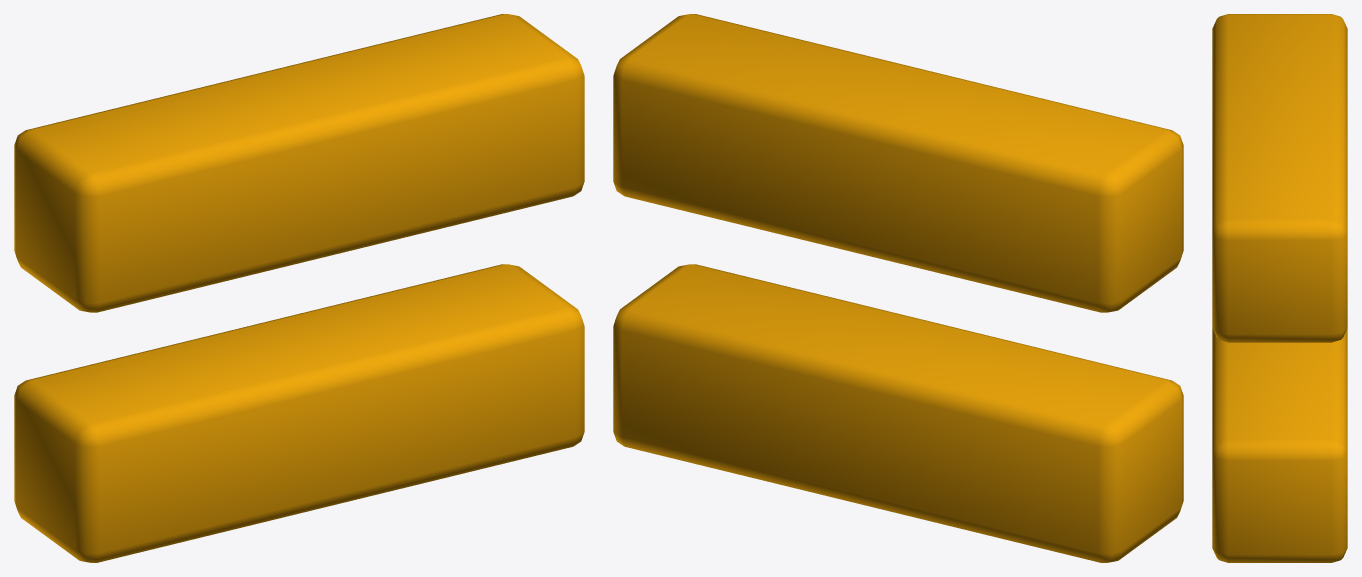
File: ravno.fbx
3 renders of one model, left to right at view 1: azimuth 30°, elevation 25°; view 2: azimuth 150°, elevation 25°; view 3: azimuth 270°, elevation 25°, orthographic. The views are drawn at different scales.
Visible parts, largest first — view 1: ravno.001; view 2: ravno.001; view 3: ravno.001.
Part boxes in pixels (bbox=[...]): ravno.001: bbox=[14, 14, 584, 562]; ravno.001: bbox=[613, 14, 1183, 562]; ravno.001: bbox=[1212, 14, 1347, 562].
Bounding box in the file's own units: 142 × 104 × 37.21.
